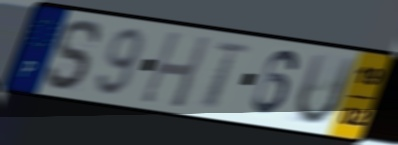6: (250, 48, 302, 120)
9: (93, 26, 147, 98)
H: (138, 28, 214, 111)
S: (43, 17, 105, 93)
T: (201, 39, 252, 112)
U: (294, 51, 359, 128)
